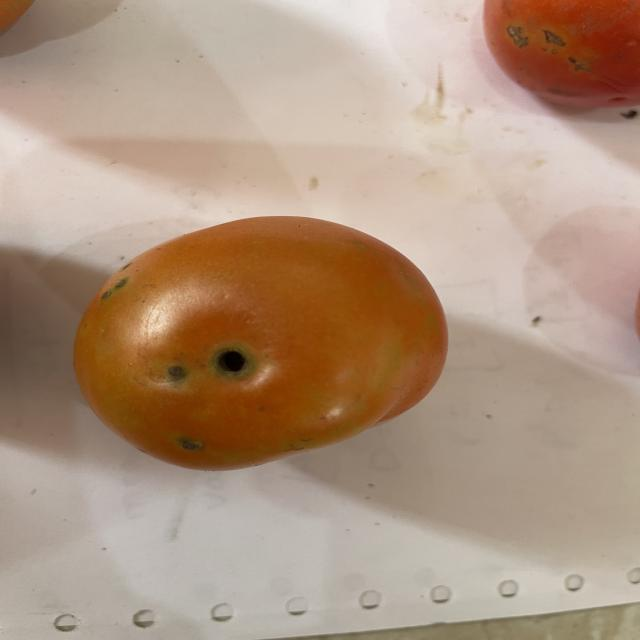fruitworm_bore: (162, 336, 255, 399)
